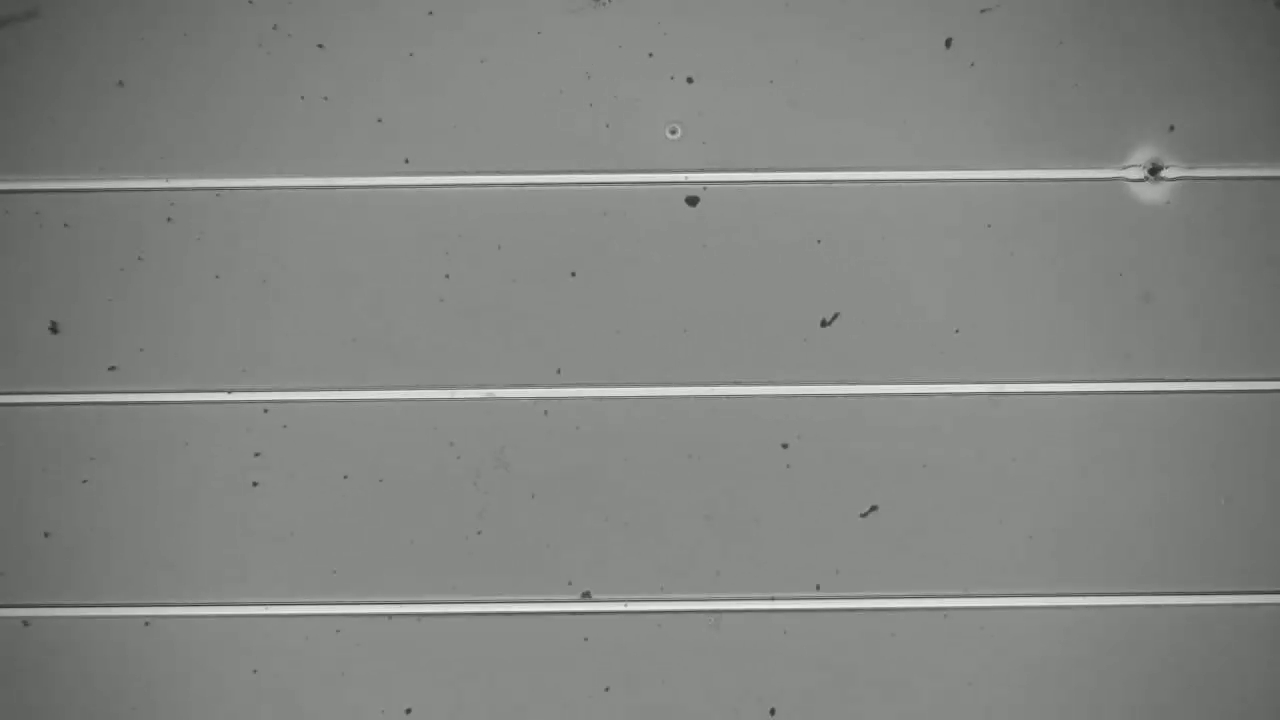stains_enbedded: (1129, 151, 1179, 194)
